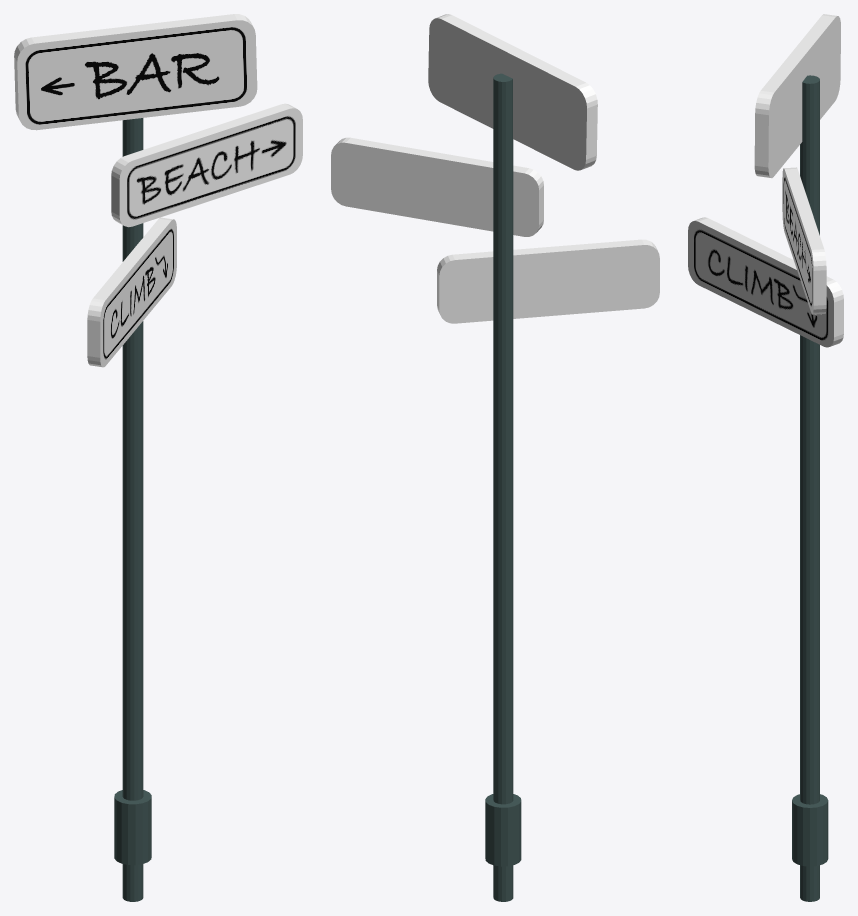
The model's file is RoadSign.FBX.
3 views of the same model, side by side, from view 1: azimuth 30°, elevation 25°; view 2: azimuth 150°, elevation 25°; view 3: azimuth 270°, elevation 25° (orthographic). The views are drawn at different scales.
Visible parts, largest first — view 1: RoadSign; view 2: RoadSign; view 3: RoadSign.
Boxes of the visible parts, box(x1,y1,x2,y2) form: RoadSign: box(14, 14, 302, 901); RoadSign: box(331, 14, 659, 901); RoadSign: box(688, 14, 843, 901).
Bounding box in the file's own units: 70.58 × 212 × 35.56.
